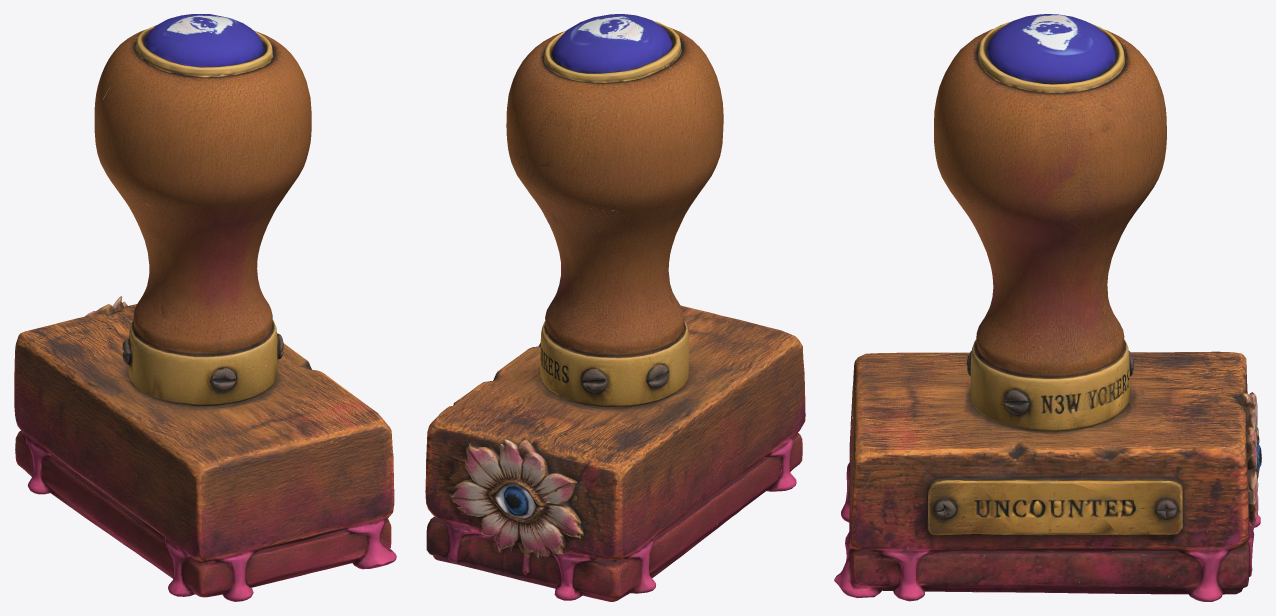
Rendered from stamp.glb.
3 renders of one model, left to right at view 1: azimuth 30°, elevation 25°; view 2: azimuth 150°, elevation 25°; view 3: azimuth 270°, elevation 25°, orthographic. The views are drawn at different scales.
Parts seen in each view (by area): view 1: tripo_node_239671d3-d6f6-42f8-8e28-dbafe721291d; view 2: tripo_node_239671d3-d6f6-42f8-8e28-dbafe721291d; view 3: tripo_node_239671d3-d6f6-42f8-8e28-dbafe721291d.
Part boxes in pixels (x1,y1,x2,y2): tripo_node_239671d3-d6f6-42f8-8e28-dbafe721291d: (14,14,396,601); tripo_node_239671d3-d6f6-42f8-8e28-dbafe721291d: (425,14,805,601); tripo_node_239671d3-d6f6-42f8-8e28-dbafe721291d: (834,14,1261,601).
Bounding box in the file's own units: 0.4568 × 1 × 0.7405.
Materials: 1 (1 with a texture image).
